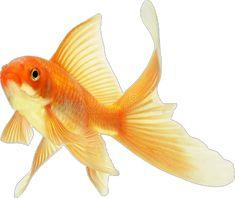goldfish: (0, 33, 179, 172)
